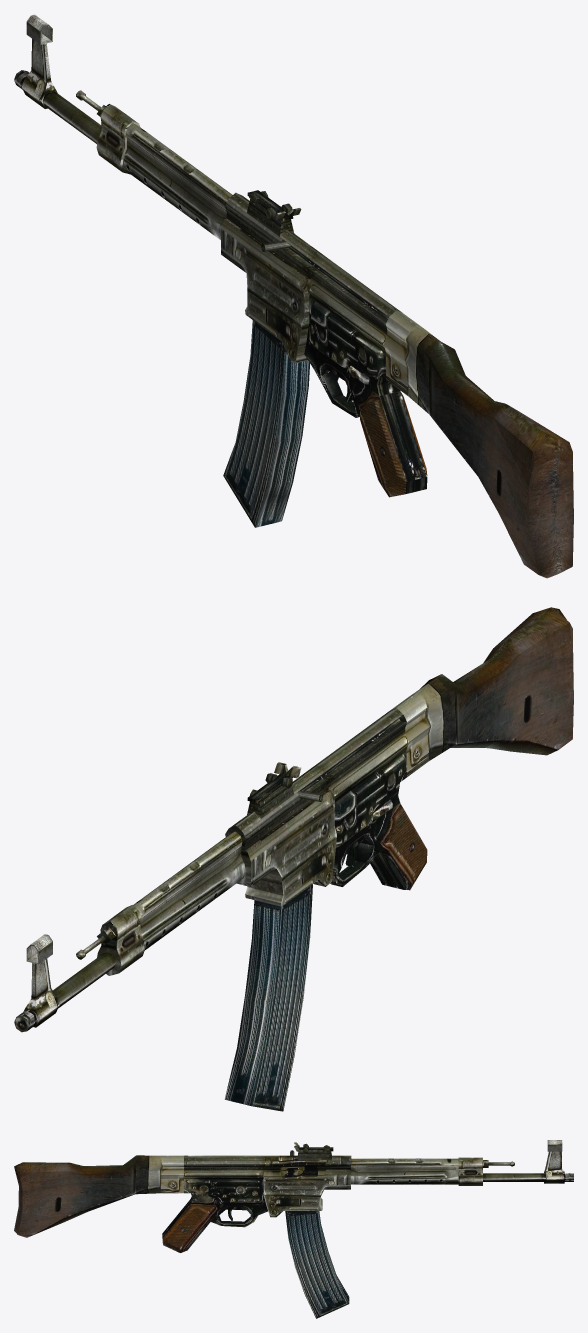
The model's file is stg44.fbx.
3 renders of one model, top to bottom at view 1: azimuth 30°, elevation 25°; view 2: azimuth 150°, elevation 25°; view 3: azimuth 270°, elevation 25°, orthographic. The views are drawn at different scales.
Visible parts, largest first — view 1: Stg128, Mag128; view 2: Stg128, Mag128; view 3: Stg128, Mag128.
Boxes of the visible parts, x1,y1,x2,y2 form: Stg128: (14, 14, 573, 578); Mag128: (223, 320, 309, 527); Stg128: (14, 607, 573, 1032); Mag128: (224, 884, 312, 1111); Stg128: (14, 1140, 573, 1252); Mag128: (285, 1211, 349, 1318).
Bounding box in the file's own units: 0.0528 × 0.3271 × 0.9477.
